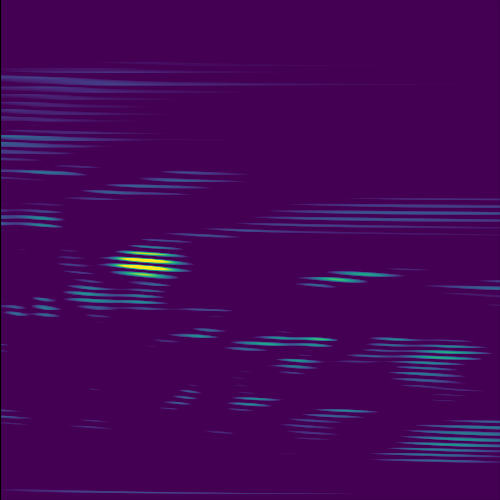semblance: (104, 251, 194, 282)
